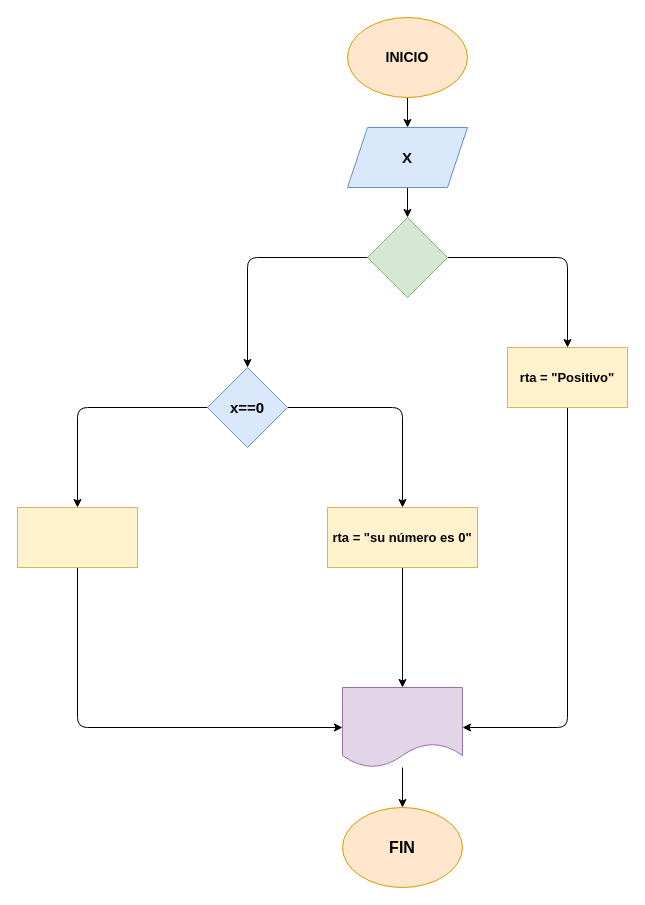
Some shapes in this 645 by 905 pixel diagram are drawn without their labels. Here are the shapes that lost their labels. From the top down, the box of each, then its label:
(366, 216, 448, 298): X>0
(16, 506, 138, 568): rta = "negativo"
(342, 686, 462, 768): rta
